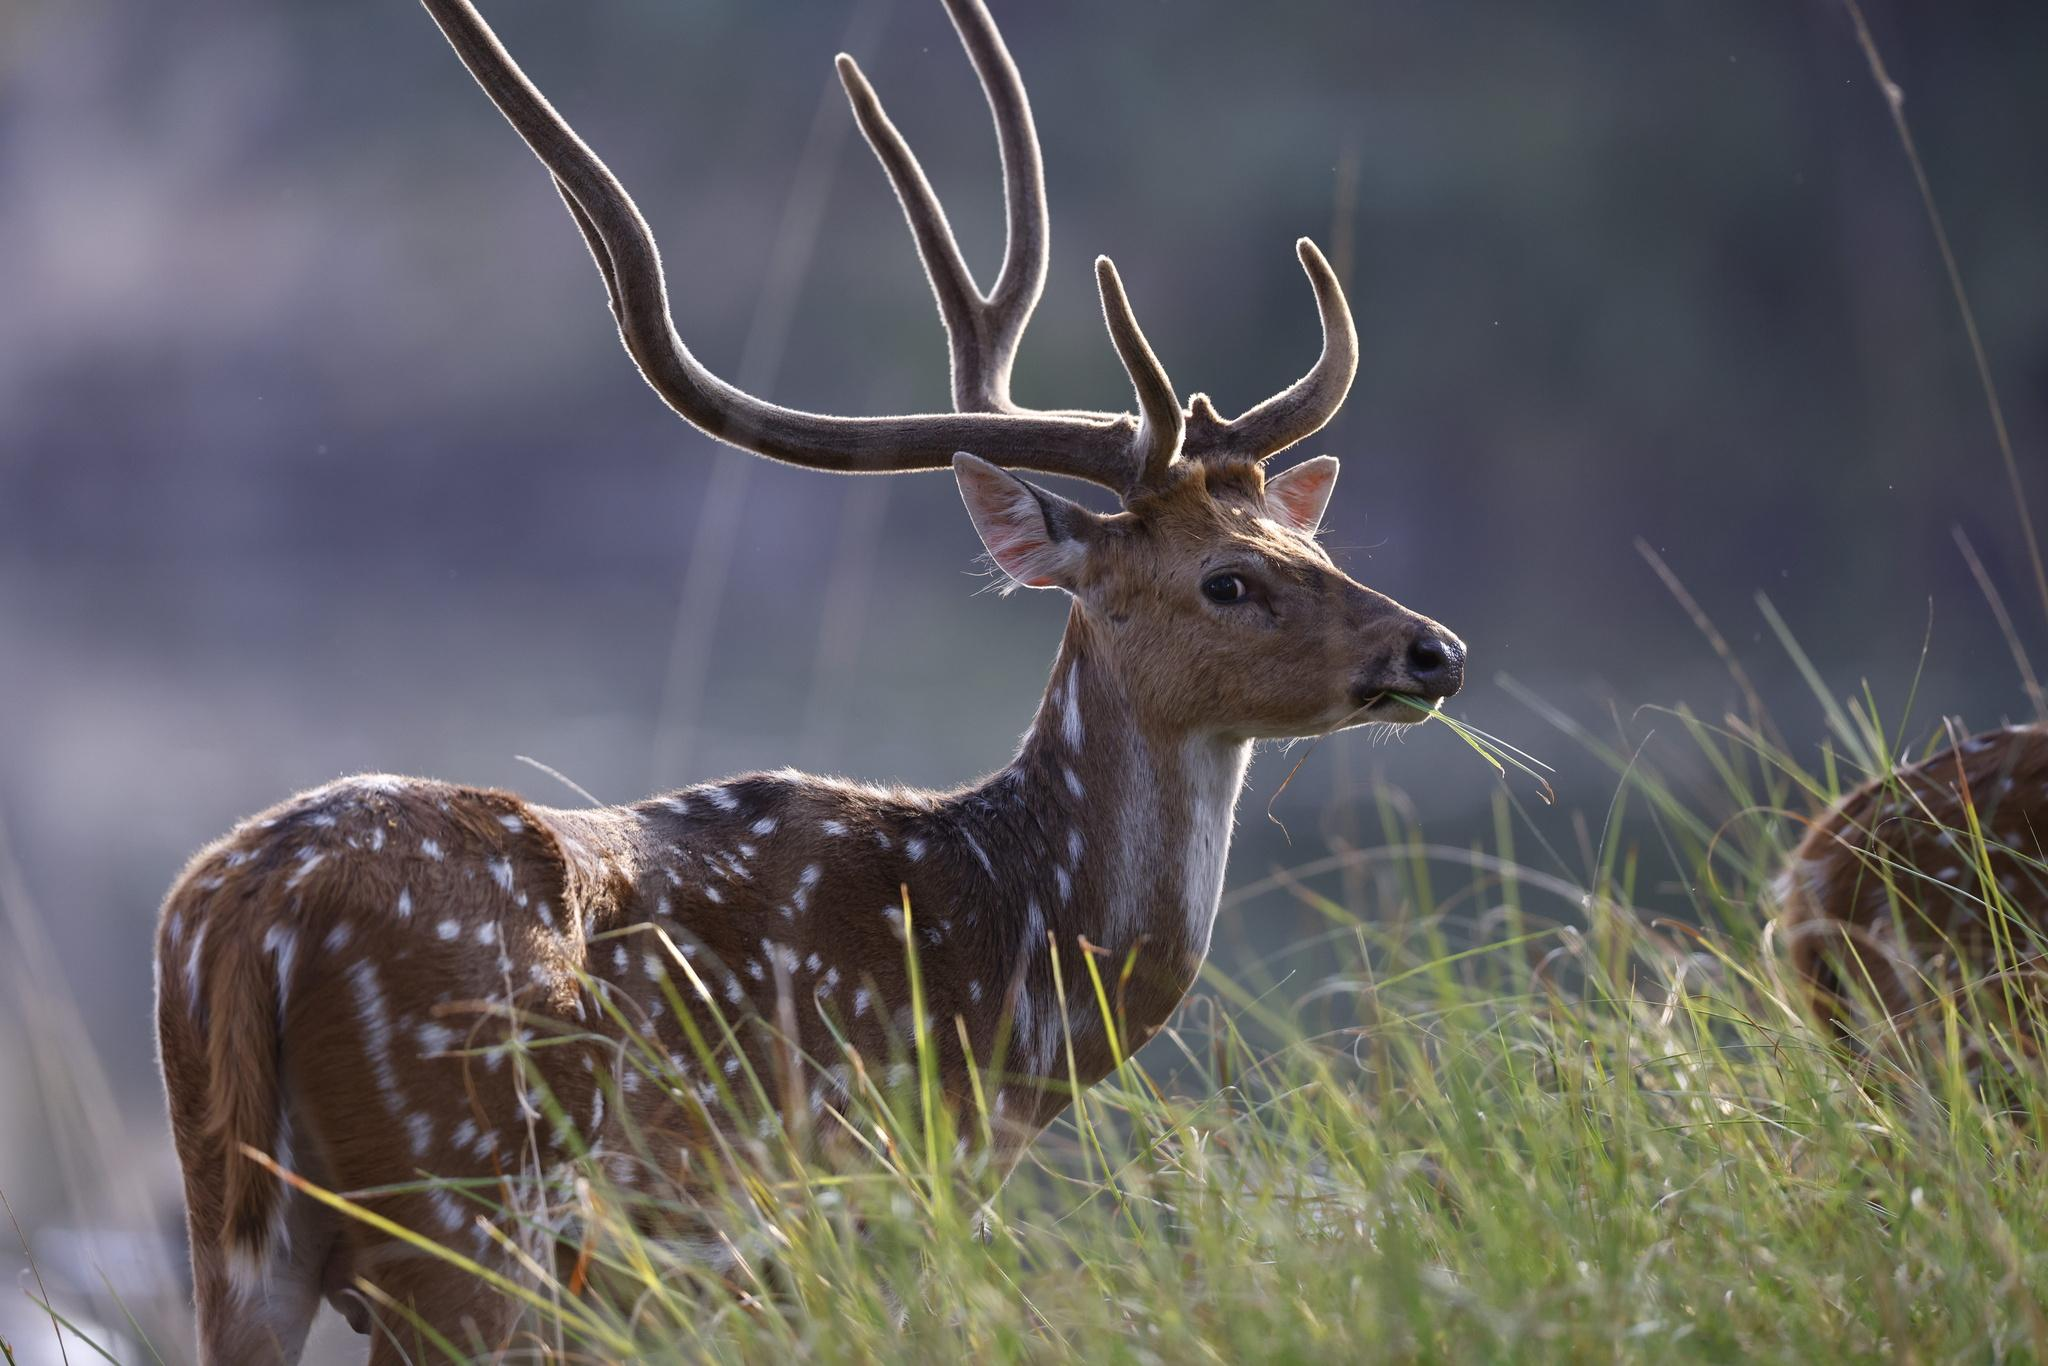Deer: (155, 0, 1464, 1364)
